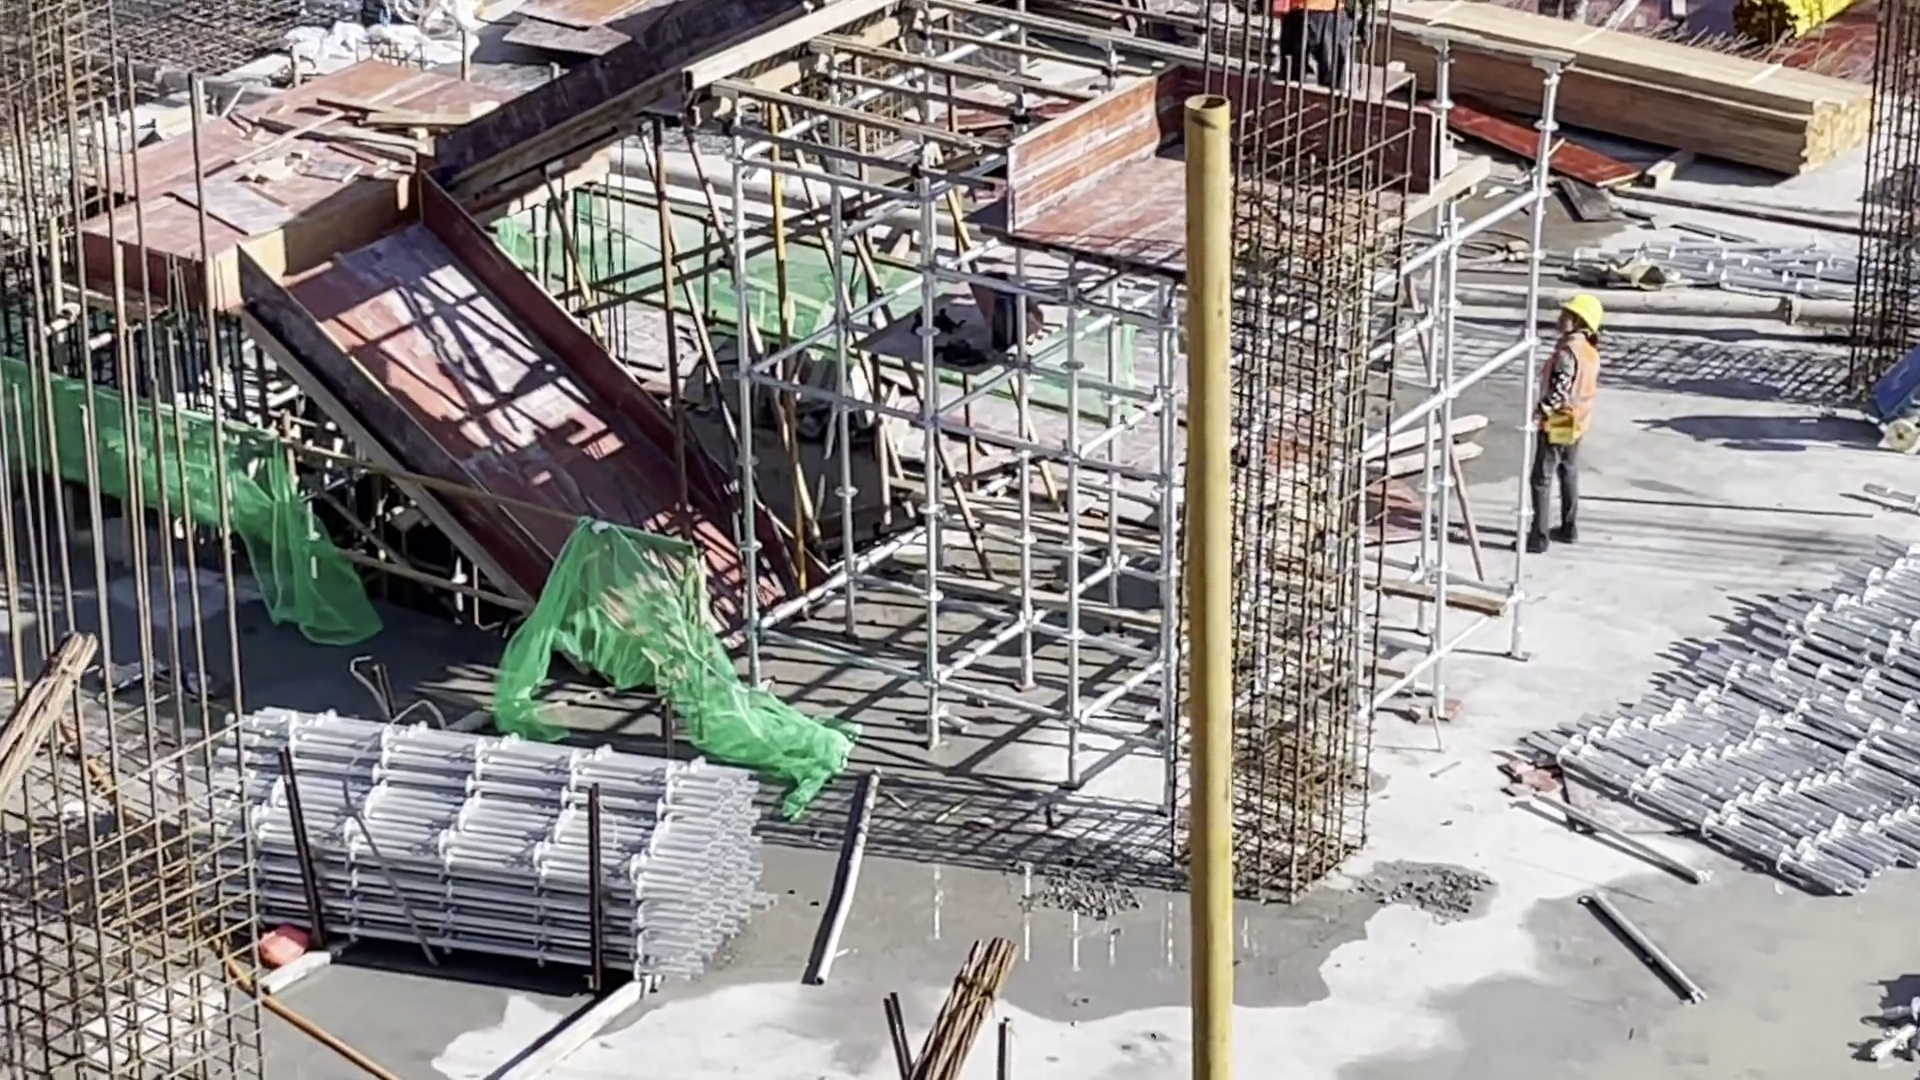helmet: (1555, 294, 1598, 328)
person: (1538, 291, 1606, 557)
scaffold: (200, 702, 777, 982), (1498, 538, 1920, 896)
vest: (1539, 340, 1602, 443)
wood: (1385, 1, 1877, 176)
